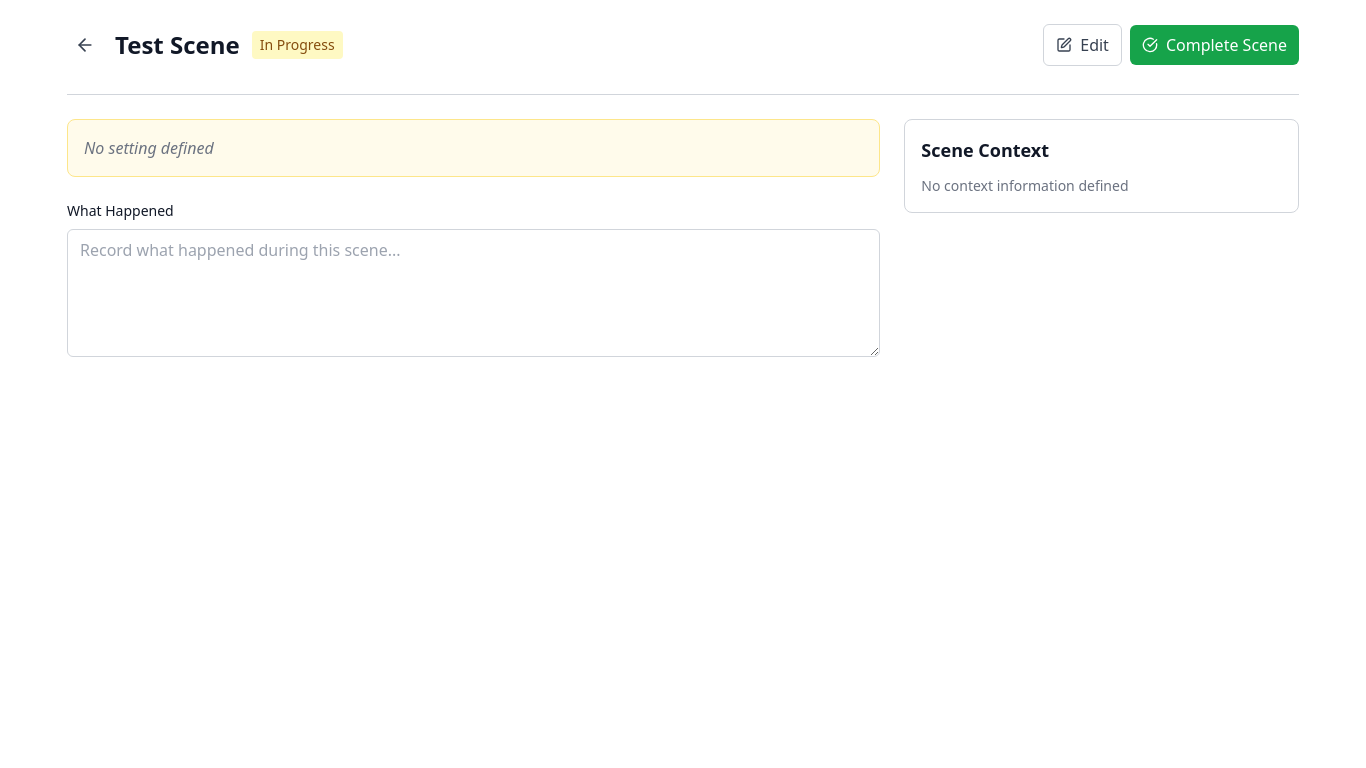
Test: Scene Runner Page - Complete Scene Action › should close modal when cancel clicked
Click the button "Complete Scene". click: (1214,45)
box: 1130,25 -> 1299,65
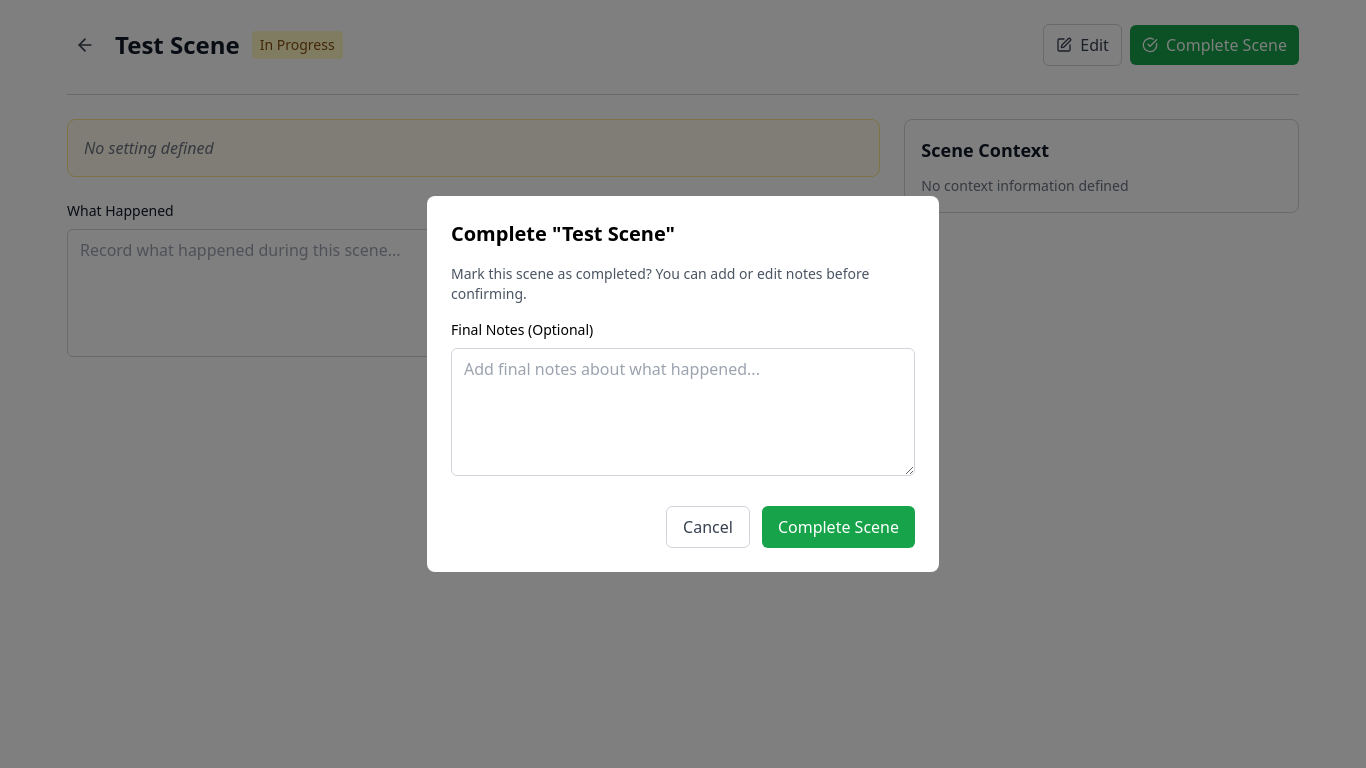
Click the button "Cancel". click: (708,527)
box: 666,506 -> 750,548
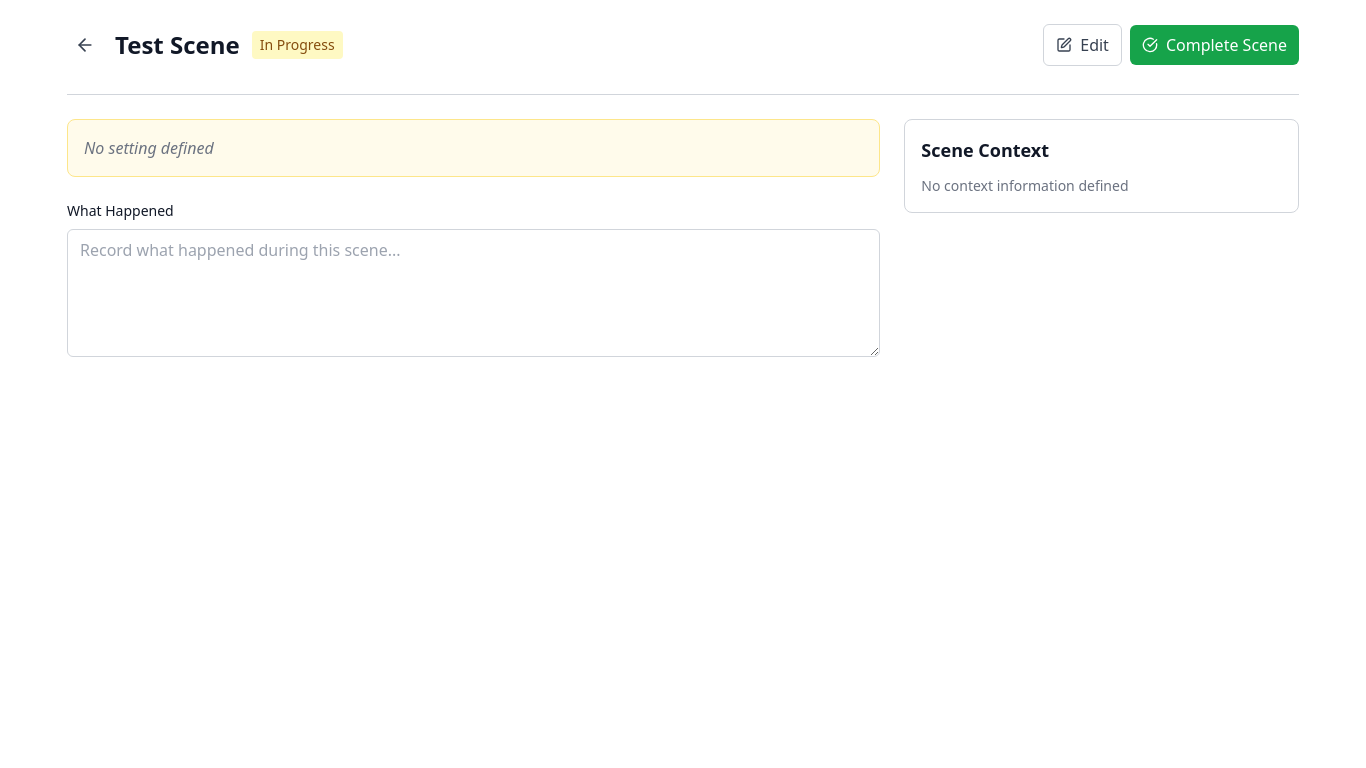
Result: the dialog is gone
